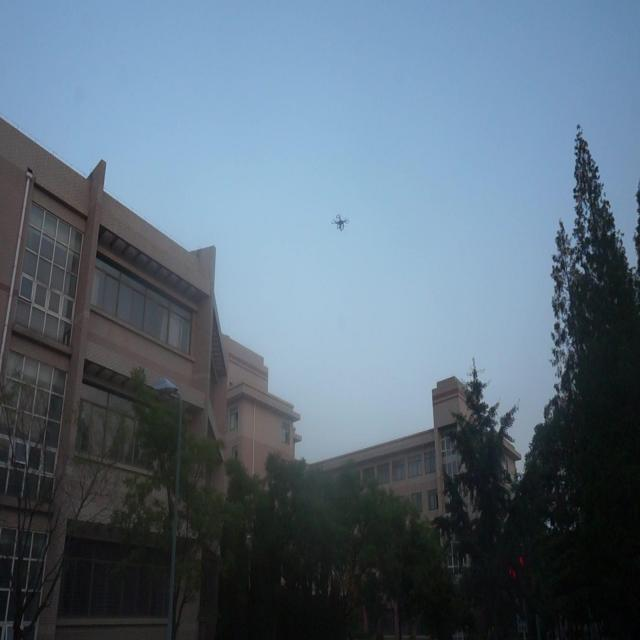UAV: (331, 214, 350, 232)
